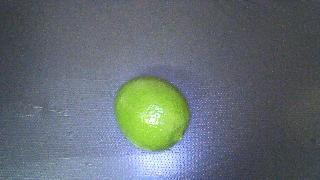EXPORTACION: (114, 76, 190, 151)
